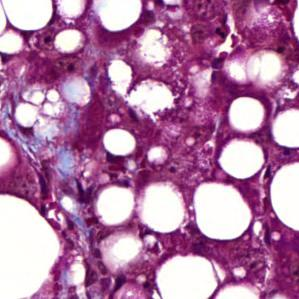steatosis: (193, 179, 253, 239), (225, 98, 265, 131), (105, 125, 134, 158), (52, 29, 86, 55)
